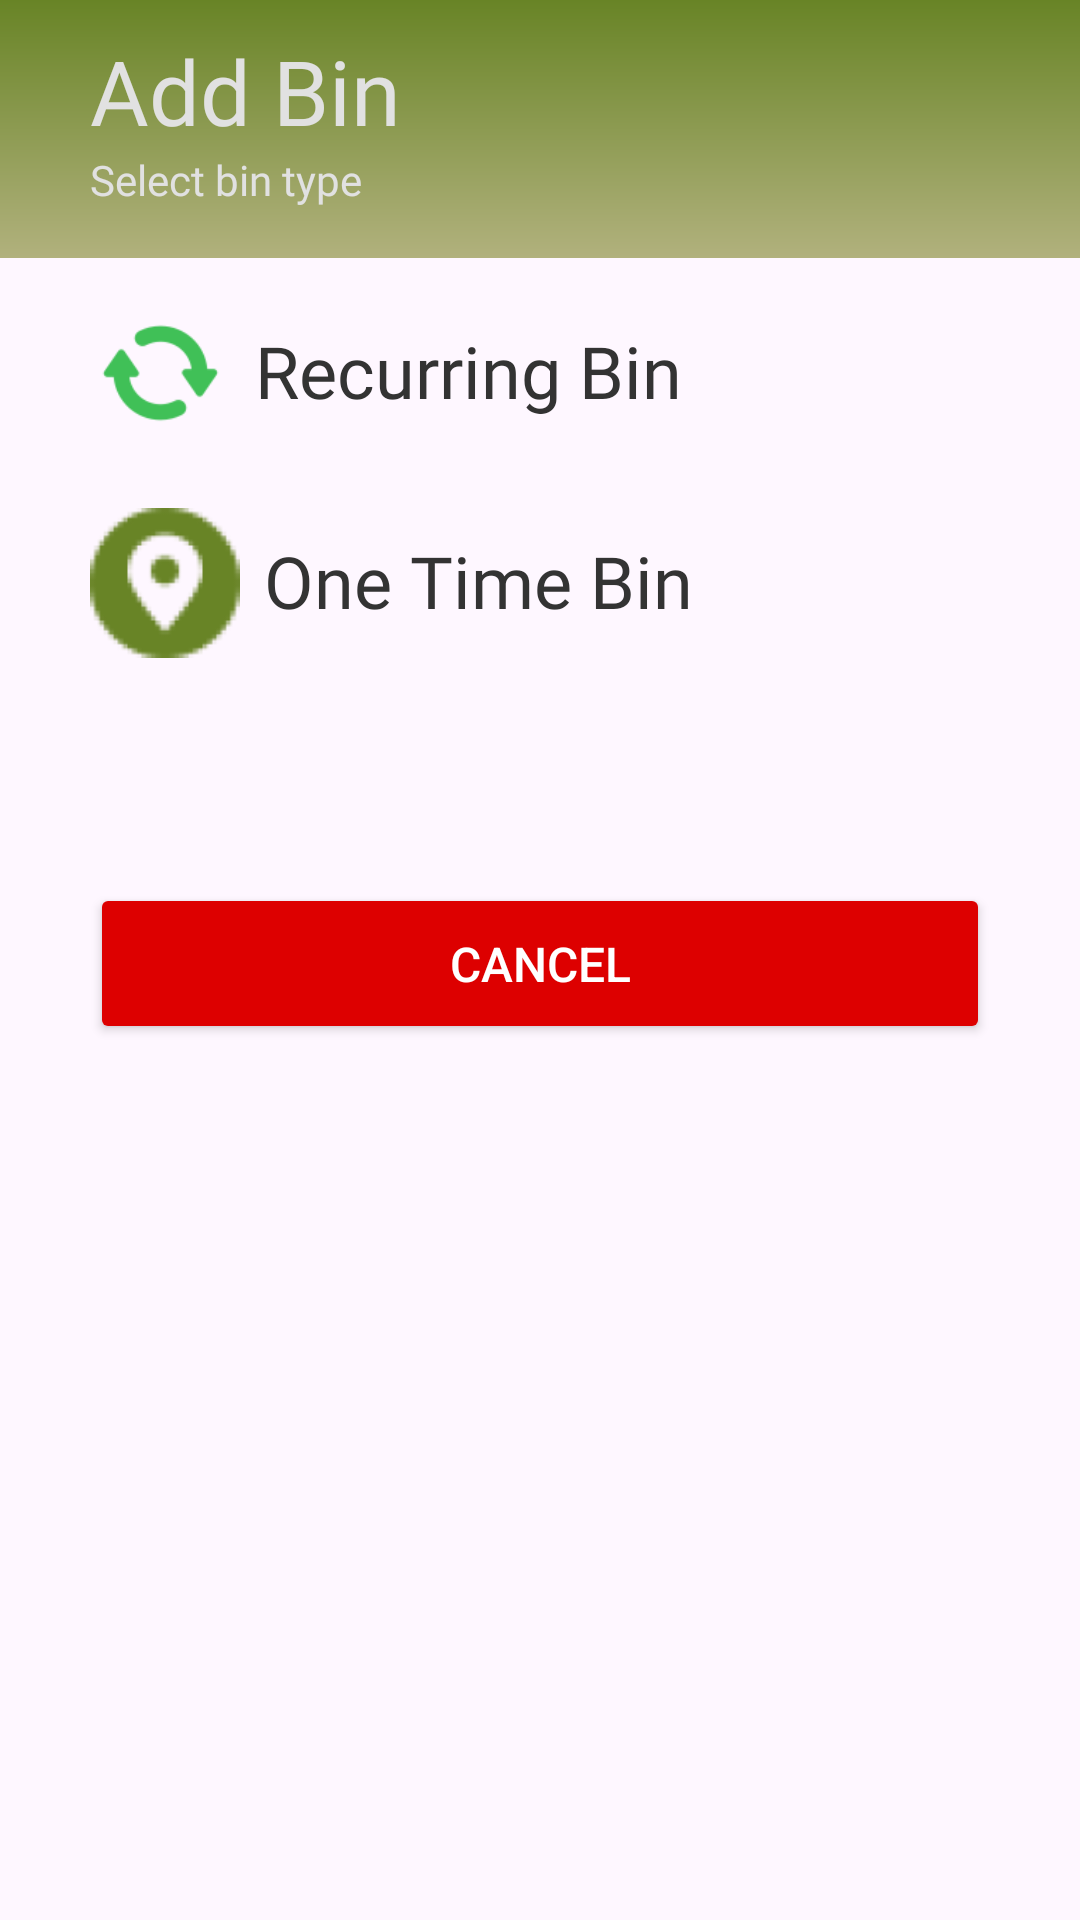

Screen size 1080 x 1920. Icon name, then its center in pixels as (x,y):
spin: (160,373)
